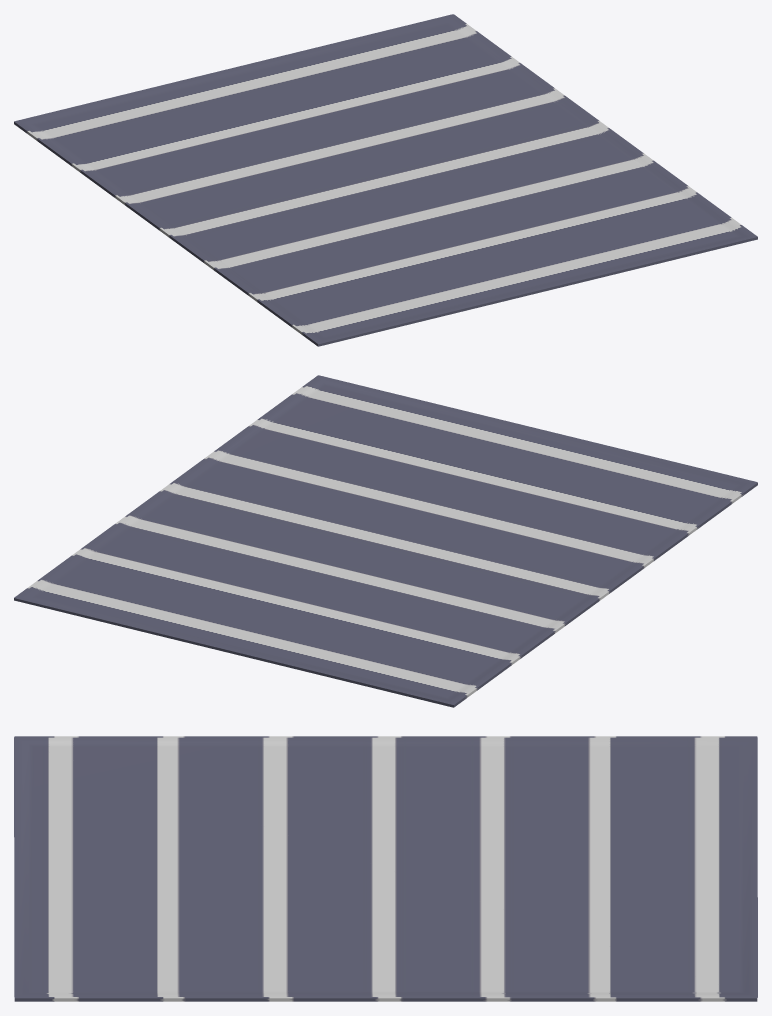
Rendered from carpet.fbx.
3 renders of one model, top to bottom at view 1: azimuth 30°, elevation 25°; view 2: azimuth 150°, elevation 25°; view 3: azimuth 270°, elevation 25°, orthographic. The views are drawn at different scales.
Visible parts, largest first — view 1: Carpet; view 2: Carpet; view 3: Carpet.
Boxes of the visible parts, x1=… form: Carpet: x1=14, y1=14, x2=757, y2=346; Carpet: x1=14, y1=375, x2=757, y2=707; Carpet: x1=14, y1=736, x2=757, y2=1001.
Size of the model in its own units: 0.1371 by 0.000793 by 0.1645.
1 material, 1 textured.
